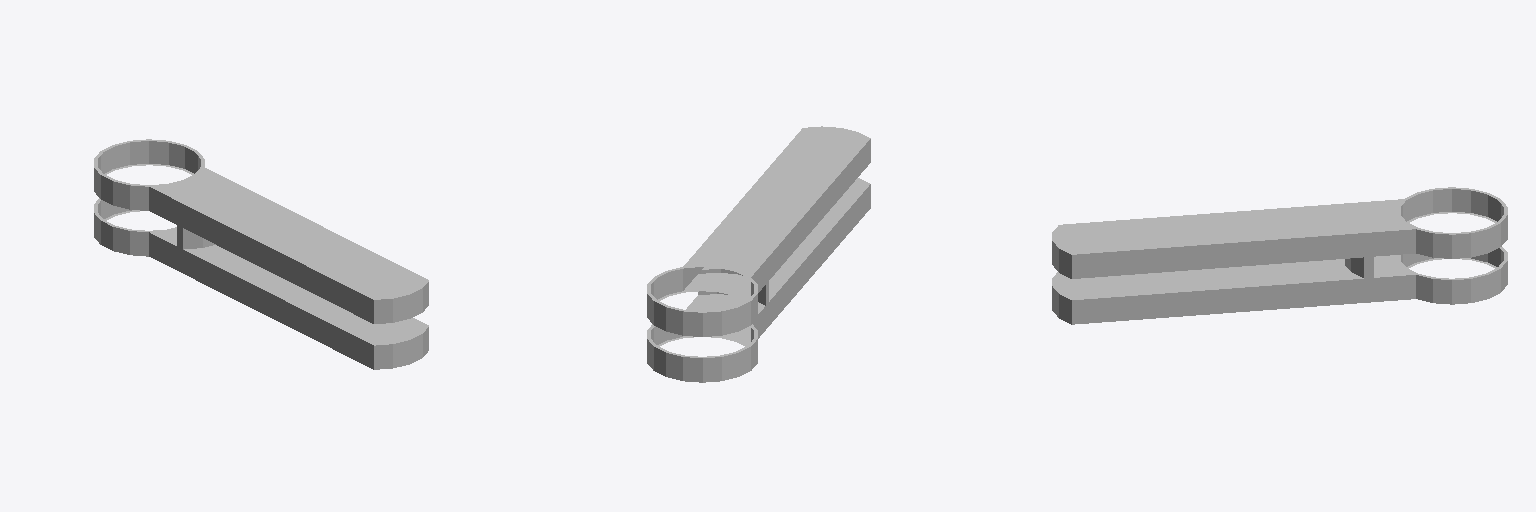
The model's file is RKneePitch_secondaryskin2.obj.
The picture shows the model from 3 angles: view 1: azimuth 30°, elevation 25°; view 2: azimuth 150°, elevation 25°; view 3: azimuth 270°, elevation 25°; orthographic projection.
Bounding box in the file's own units: 0.0836 × 0.0403 × 0.2377.